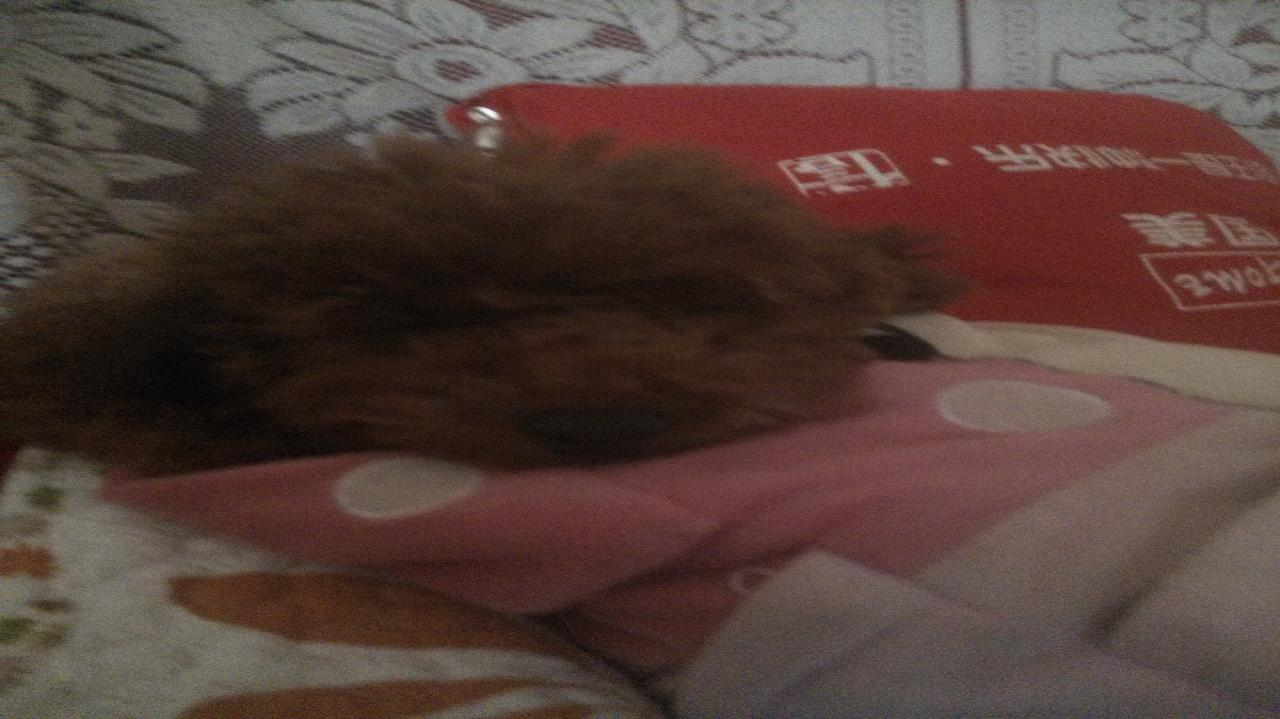zhuangzhuang: (23, 139, 900, 475)
